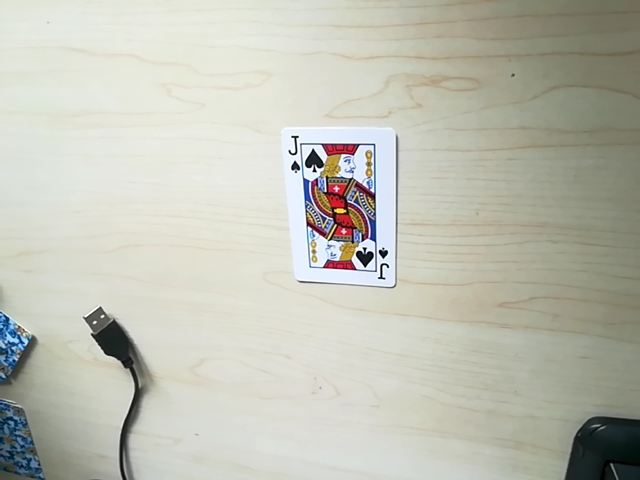ht j: (282, 136, 301, 175), (371, 248, 392, 282)
